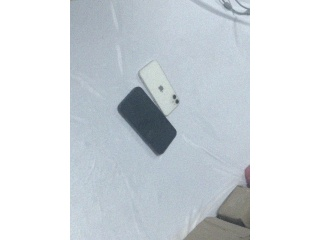phone: (116, 86, 177, 156), (138, 58, 182, 115)
